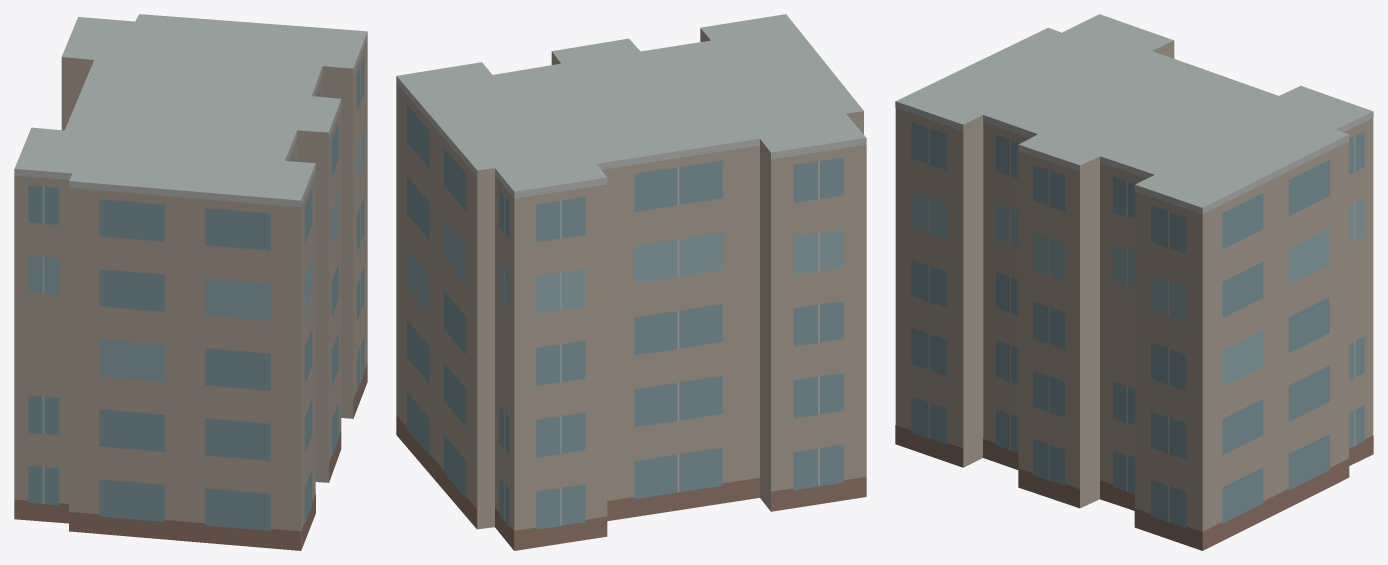
File: survey-upis-32992811.glb
3 renders of one model, left to right at view 1: azimuth 30°, elevation 25°; view 2: azimuth 150°, elevation 25°; view 3: azimuth 270°, elevation 25°, orthographic. The views are drawn at different scales.
Visible parts, largest first — view 1: survey-upis-32992811.tmp; view 2: survey-upis-32992811.tmp; view 3: survey-upis-32992811.tmp.
Boxes of the visible parts, box(x1,y1,x2,y2) form: survey-upis-32992811.tmp: box(14, 14, 367, 550); survey-upis-32992811.tmp: box(396, 14, 866, 550); survey-upis-32992811.tmp: box(895, 14, 1373, 550).
Size of the model in its own units: 15.41 by 12.7 by 16.04.
